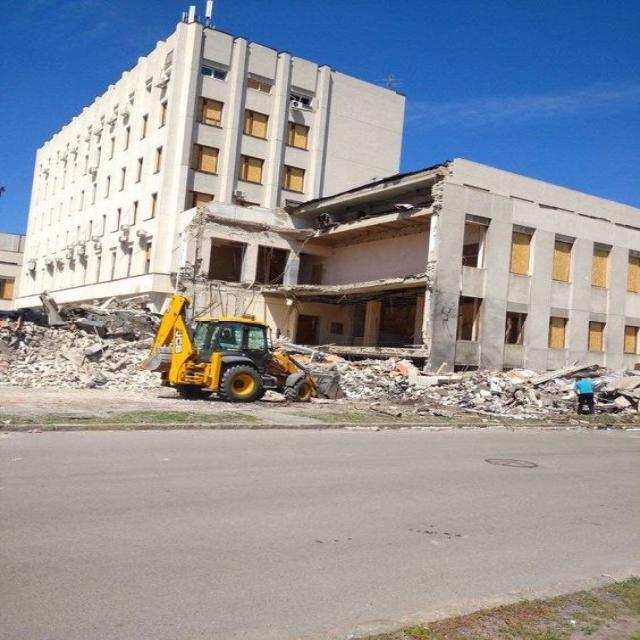building: (10, 2, 408, 320)
